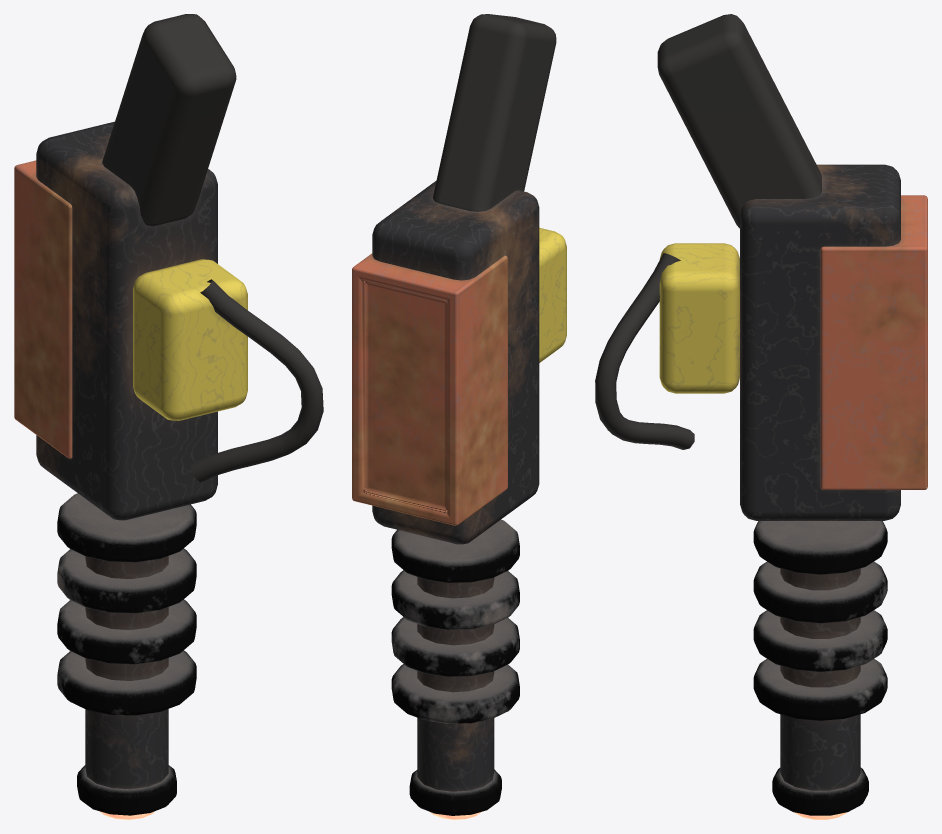
File: pistola_laser.glb
3 views of the same model, side by side, from view 1: azimuth 30°, elevation 25°; view 2: azimuth 150°, elevation 25°; view 3: azimuth 270°, elevation 25° (orthographic). The views are drawn at different scales.
Parts seen in each view (by area): view 1: pistola_laser; view 2: pistola_laser; view 3: pistola_laser.
Boxes of the visible parts, bbox=[...] form: pistola_laser: bbox=[14, 14, 323, 819]; pistola_laser: bbox=[352, 14, 566, 819]; pistola_laser: bbox=[595, 14, 927, 819].
Size of the model in its own units: 0.1179 by 0.6473 by 0.2481.
2 materials, 1 textured.
